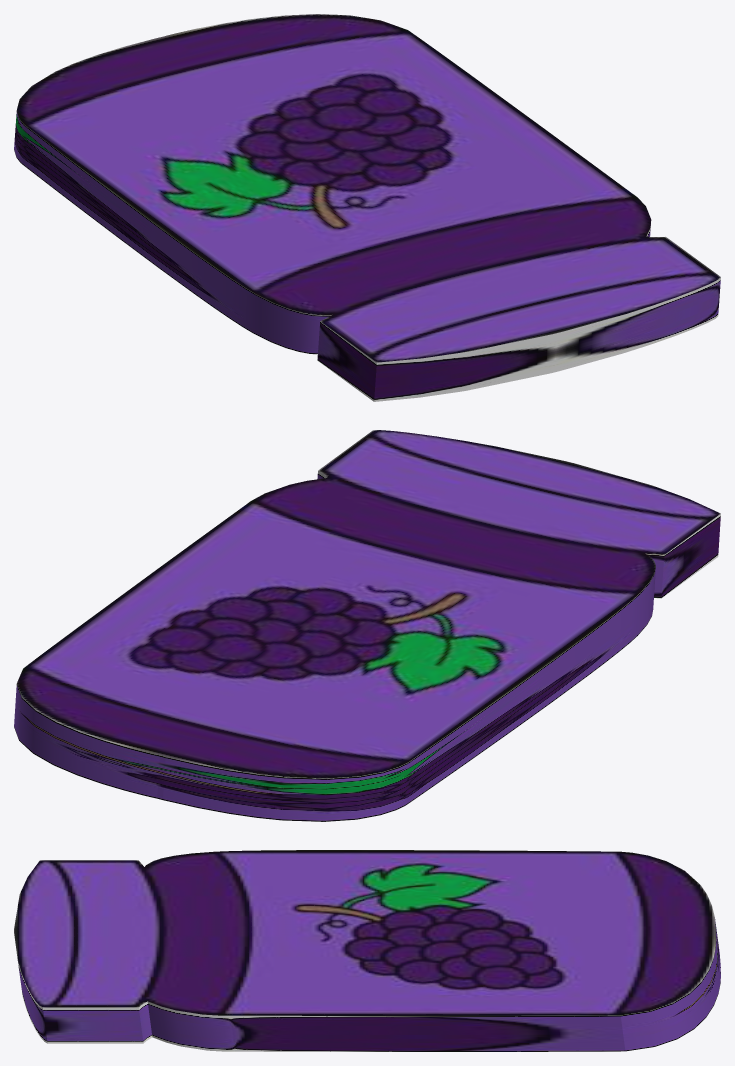
Rendered from jar2.obj.
3 views of the same model, one above another, from view 1: azimuth 30°, elevation 25°; view 2: azimuth 150°, elevation 25°; view 3: azimuth 270°, elevation 25° (orthographic). The views are drawn at different scales.
Parts seen in each view (by area): view 1: Spline_Object; view 2: Spline_Object; view 3: Spline_Object.
Part boxes in pixels (left/top/right/bottom): Spline_Object: left=14, top=14, right=720, bottom=401; Spline_Object: left=14, top=430, right=720, bottom=821; Spline_Object: left=14, top=850, right=720, bottom=1051.
Size of the model in its own units: 55.41 by 5.62 by 99.8.
Materials: 3 (3 with a texture image).
